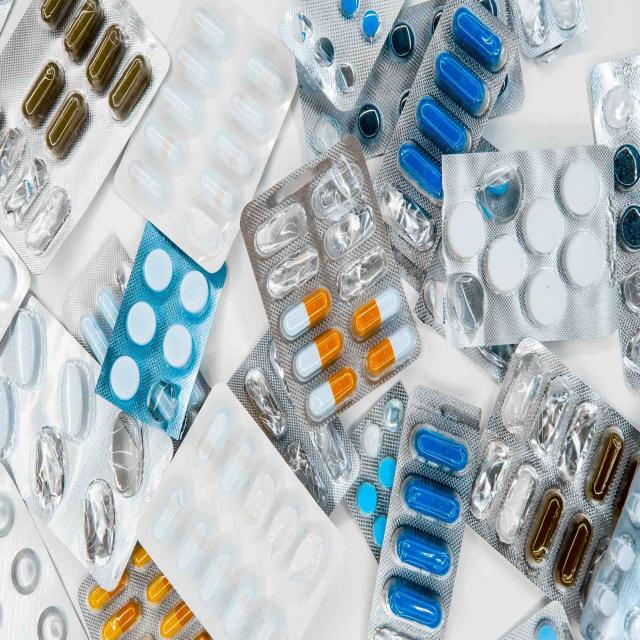Empty: (484, 446, 551, 559), (493, 341, 557, 447), (551, 388, 610, 501), (14, 170, 83, 266), (234, 349, 297, 449), (373, 170, 442, 260), (247, 184, 318, 270), (77, 459, 128, 578), (464, 420, 518, 531), (526, 365, 586, 463), (307, 147, 374, 233), (259, 234, 332, 312), (277, 517, 337, 610), (329, 234, 400, 312), (27, 410, 75, 523), (318, 195, 385, 275), (223, 459, 288, 541), (253, 488, 310, 580), (105, 413, 159, 510), (306, 413, 363, 497), (465, 158, 524, 239), (175, 192, 238, 265), (0, 144, 50, 228), (443, 262, 485, 347), (142, 371, 189, 442), (597, 76, 637, 134), (329, 44, 365, 105), (305, 23, 343, 78), (312, 115, 344, 156), (361, 420, 384, 459), (383, 398, 404, 434)
Pill: (423, 31, 501, 131), (406, 79, 487, 168), (545, 497, 607, 612), (31, 78, 105, 168), (76, 10, 146, 105), (284, 308, 356, 399), (582, 412, 640, 522), (103, 37, 170, 132), (518, 475, 573, 588), (13, 45, 77, 139), (208, 417, 272, 509), (176, 396, 246, 480), (446, 0, 518, 81), (299, 350, 371, 430), (166, 501, 230, 591), (271, 273, 339, 354), (144, 465, 204, 556), (345, 275, 413, 354), (389, 131, 454, 213), (190, 533, 250, 620), (359, 310, 422, 391), (133, 110, 195, 192), (159, 34, 228, 107), (148, 67, 209, 147), (213, 559, 272, 640), (234, 31, 294, 110), (381, 560, 444, 635), (204, 116, 266, 189), (118, 149, 178, 221), (220, 78, 279, 149), (408, 413, 469, 478), (404, 465, 465, 530), (394, 514, 454, 580), (556, 147, 606, 226), (4, 305, 47, 396), (181, 0, 241, 65), (56, 350, 93, 449), (193, 153, 249, 218), (527, 262, 568, 338), (485, 228, 527, 296), (522, 198, 566, 262), (566, 226, 607, 294), (99, 589, 151, 640), (445, 194, 483, 260), (605, 134, 640, 200), (610, 194, 640, 270), (159, 315, 196, 371), (107, 354, 145, 405), (8, 544, 42, 601), (178, 260, 210, 318), (141, 244, 174, 297), (126, 297, 156, 354), (352, 98, 384, 147), (389, 21, 416, 66), (354, 481, 381, 517), (376, 457, 402, 494), (357, 8, 384, 40), (334, 0, 366, 22)
